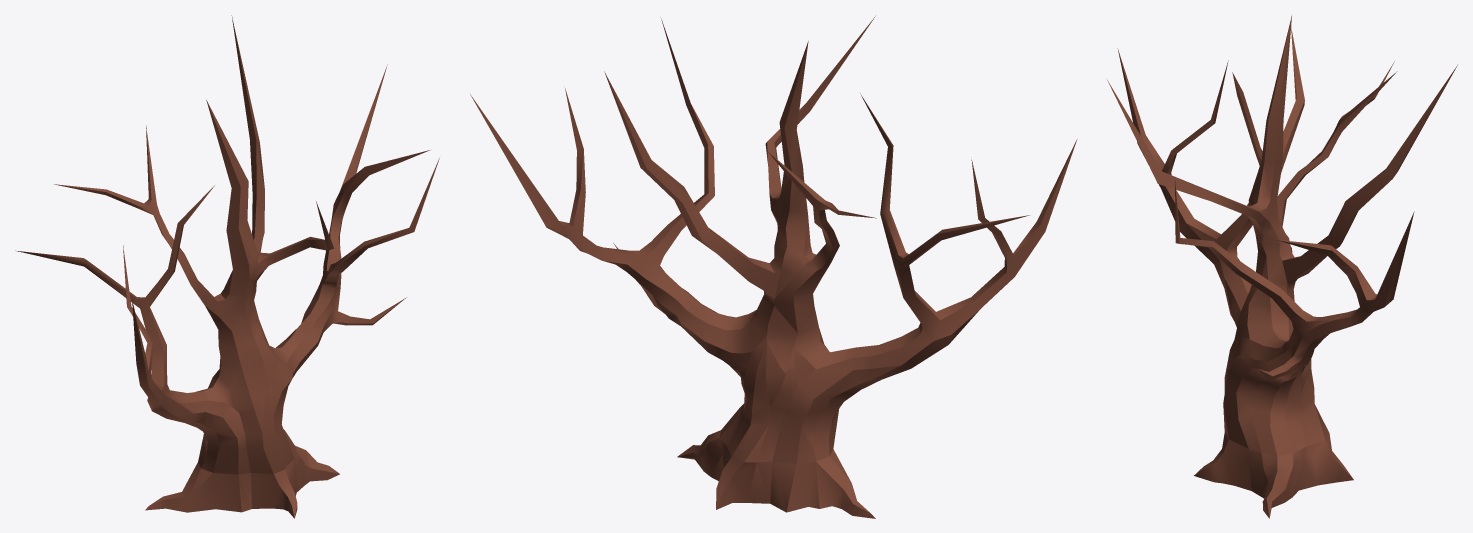
Rendered from FINAL_Tree_3.fbx.
3 views of the same model, side by side, from view 1: azimuth 30°, elevation 25°; view 2: azimuth 150°, elevation 25°; view 3: azimuth 270°, elevation 25° (orthographic). The views are drawn at different scales.
Visible parts, largest first — view 1: Tree_free_02.003; view 2: Tree_free_02.003; view 3: Tree_free_02.003.
Boxes of the visible parts, left/top/right/bottom form: Tree_free_02.003: left=15, top=15, right=439, bottom=518; Tree_free_02.003: left=470, top=16, right=1077, bottom=518; Tree_free_02.003: left=1107, top=15, right=1457, bottom=518.
Bounding box in the file's own units: 773 × 692 × 499.
